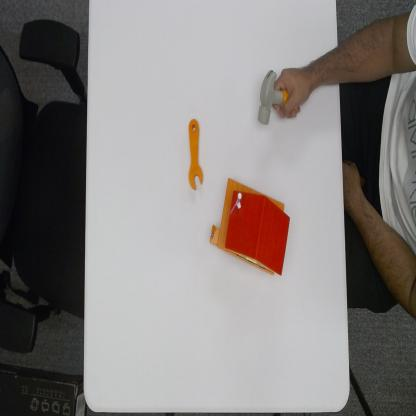Hammer: (256, 66, 290, 127)
Hand: (209, 176, 291, 280), (272, 64, 316, 118)
Screwdriver: (186, 117, 205, 192)
